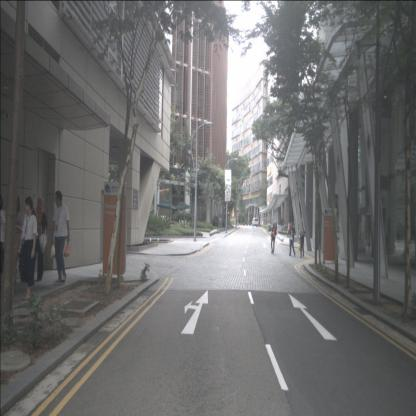human-pedestrian-adult: (16, 196, 39, 300), (50, 190, 69, 285), (28, 196, 48, 282), (7, 195, 24, 295), (0, 193, 6, 293), (298, 223, 306, 258), (288, 222, 296, 256), (270, 223, 277, 254), (287, 221, 291, 237)
vehicle-car: (252, 218, 258, 226)
